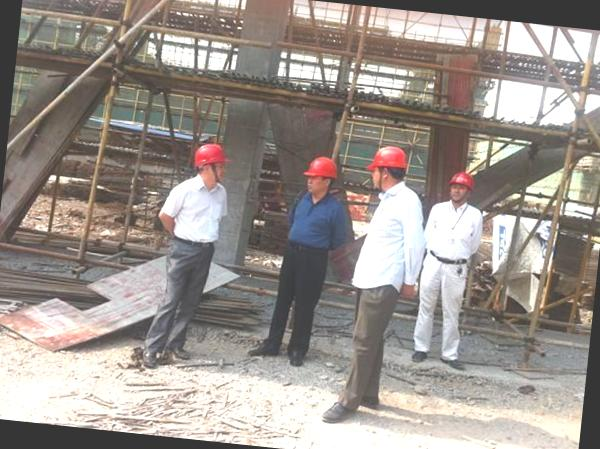helmet: (371, 140, 414, 174), (306, 152, 340, 184), (194, 140, 227, 166), (450, 168, 475, 186)
no_vest: (349, 187, 426, 300), (167, 174, 232, 250), (428, 192, 487, 270), (287, 189, 351, 248)
person: (324, 138, 435, 435), (142, 130, 248, 391), (264, 139, 360, 376), (409, 168, 489, 370)
